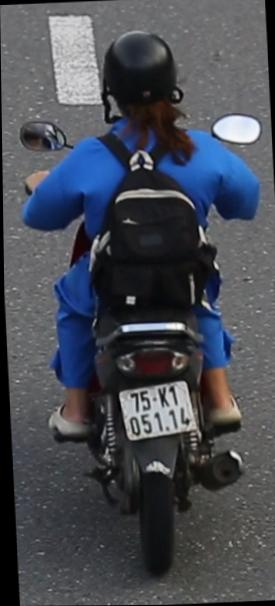LP: (112, 376, 196, 441)
helmet: (96, 21, 194, 145)
